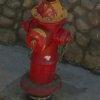Hydrant: (13, 3, 71, 100)
